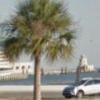cars: (60, 78, 100, 98)
